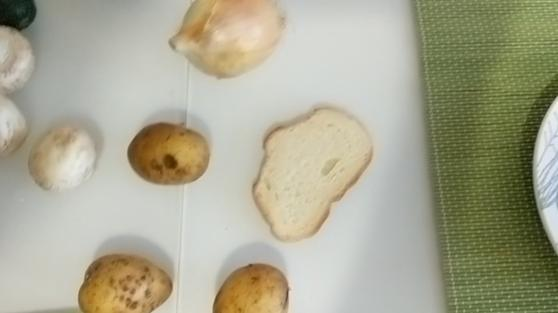champignon: (25, 119, 96, 194), (1, 29, 39, 97), (1, 98, 28, 153)
onion: (167, 1, 289, 80)
potato: (74, 252, 174, 309), (131, 120, 211, 185), (213, 265, 291, 313)
white_bread: (252, 103, 375, 241)
